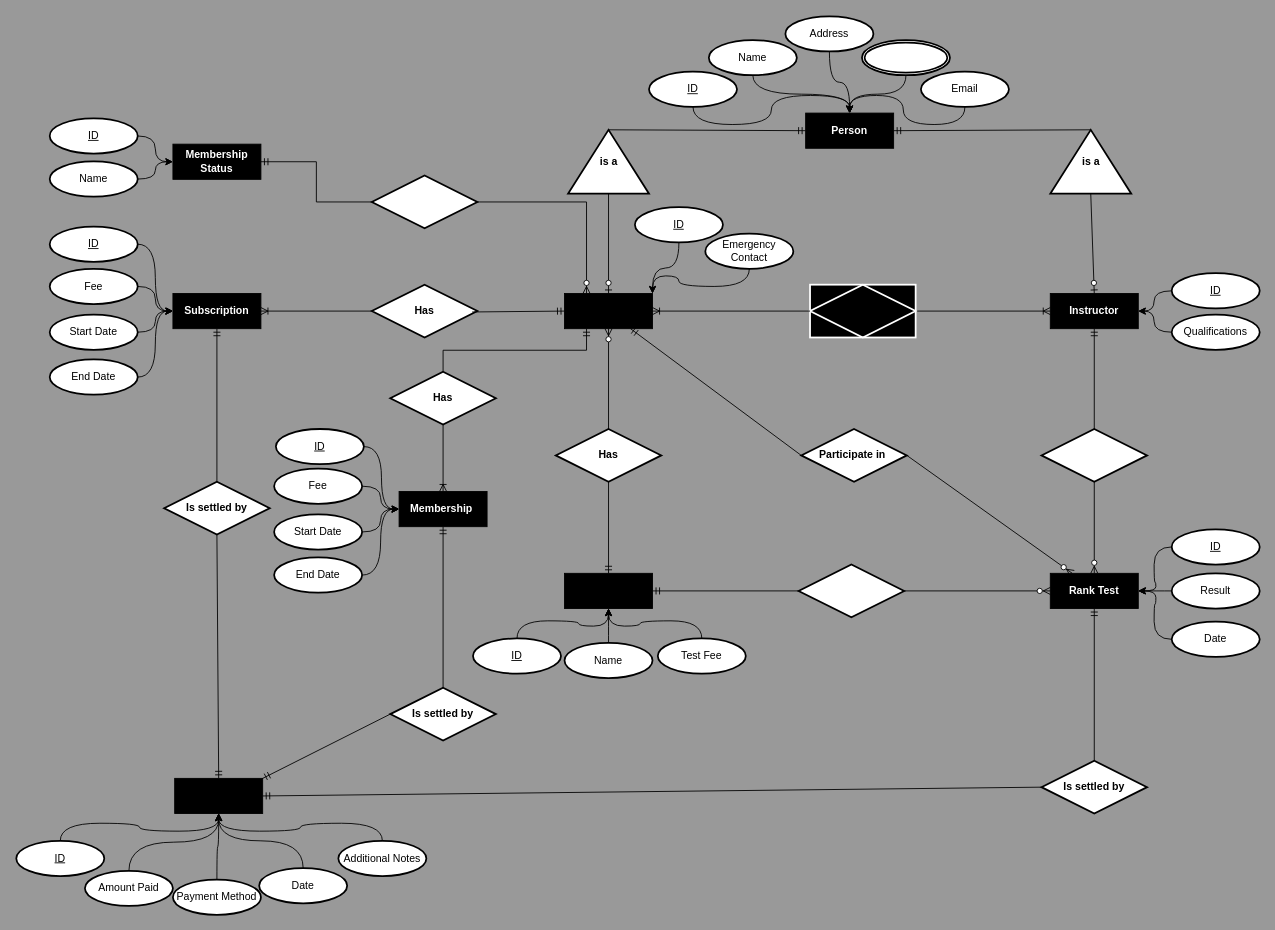
Image size: 1275x930. Some labels were removed from this diagram. The centre of each missing label's shape, as x and y in pixels:
Belt Rank: the point at 608,590
Conducts: the point at 1094,455
Is in status: the point at 424,201
Member: the point at 608,311
Payment: the point at 218,795
Phone: the point at 905,57
Targets: the point at 851,590
Train: the point at 862,310
